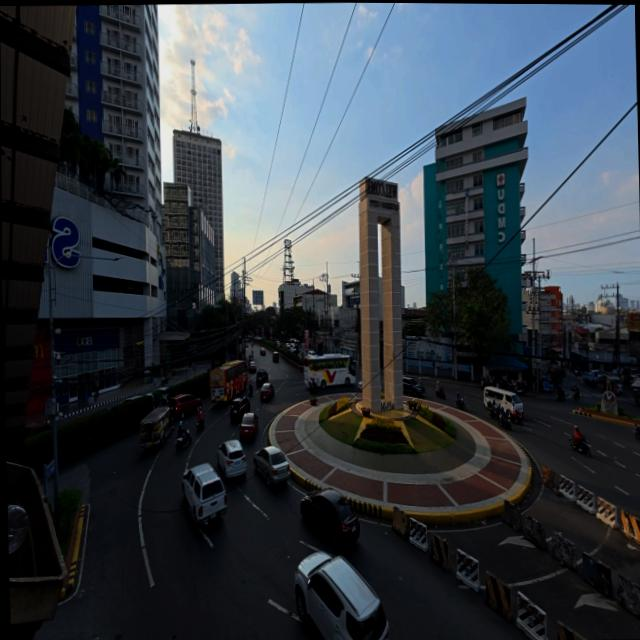Jeepneys: (139, 406, 171, 448)
bus: (303, 354, 355, 388), (209, 361, 247, 402)
car: (294, 552, 388, 639), (300, 488, 359, 548), (182, 463, 227, 524), (253, 446, 290, 486), (216, 440, 245, 478), (169, 394, 200, 418), (240, 412, 259, 440), (229, 397, 249, 421), (402, 376, 424, 397), (23, 422, 50, 437), (120, 393, 152, 404), (260, 383, 273, 401), (255, 370, 268, 387), (248, 361, 256, 373), (305, 350, 316, 356), (272, 351, 278, 362), (260, 348, 265, 356), (358, 381, 362, 391), (276, 340, 280, 346), (639, 398, 640, 411)
motorcycle: (569, 437, 590, 456), (175, 428, 191, 450), (497, 412, 510, 430), (509, 410, 522, 426), (513, 382, 525, 395), (488, 405, 498, 419), (196, 411, 203, 430), (435, 385, 445, 398), (481, 377, 492, 388), (455, 398, 465, 410), (308, 383, 318, 393), (556, 390, 565, 400), (633, 425, 639, 440), (572, 387, 579, 399), (160, 374, 168, 384), (634, 392, 639, 406), (248, 384, 252, 397)
vans: (483, 387, 522, 415)
